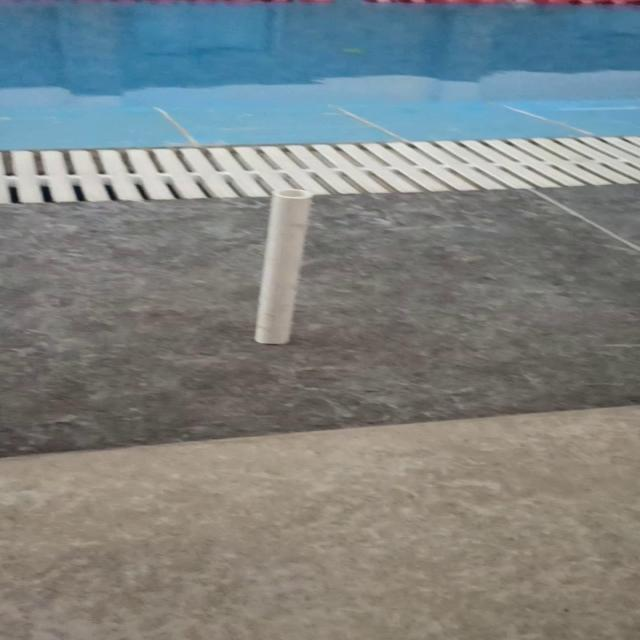Cube: (251, 187, 313, 345)
